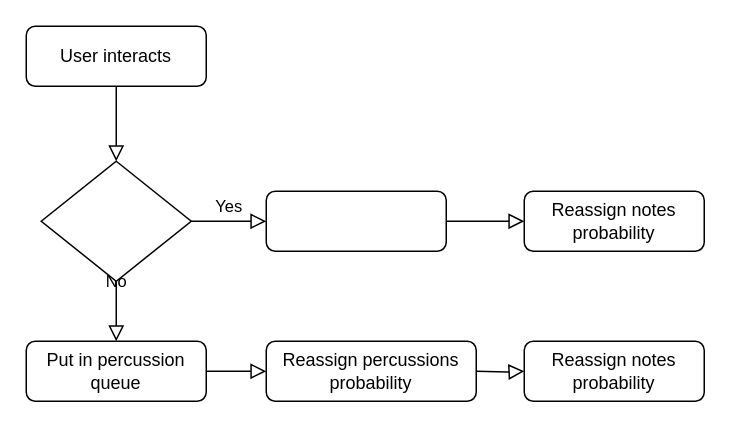
This 731x428 diagram has some shape labels left out. Each missing label, with the centre of its shape:
"Is a melody?" belongs at (x=115, y=220).
"Put in note queue" belongs at (x=355, y=220).
